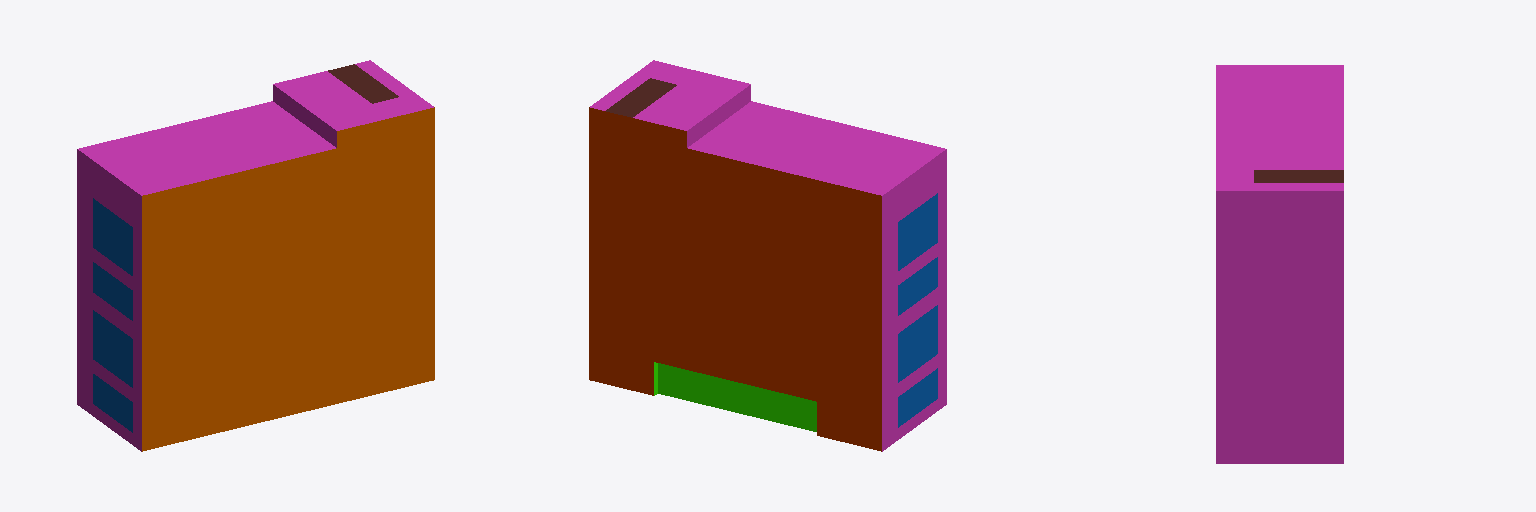
File: classroom1.obj
3 views of the same model, side by side, from view 1: azimuth 30°, elevation 25°; view 2: azimuth 150°, elevation 25°; view 3: azimuth 270°, elevation 25° (orthographic).
Parts seen in each view (by area): view 1: Mesh1 Model; view 2: Mesh1 Model; view 3: Mesh1 Model.
Boxes of the visible parts, box(x1,y1,x2,y2) form: Mesh1 Model: box(77, 60, 434, 451); Mesh1 Model: box(589, 60, 946, 451); Mesh1 Model: box(1216, 65, 1343, 463).
Size of the model in its own units: 9 by 8 by 3.42.